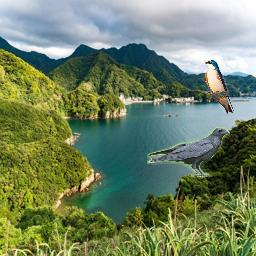Crow: (147, 127, 230, 177)
Swallow: (204, 60, 234, 114)
